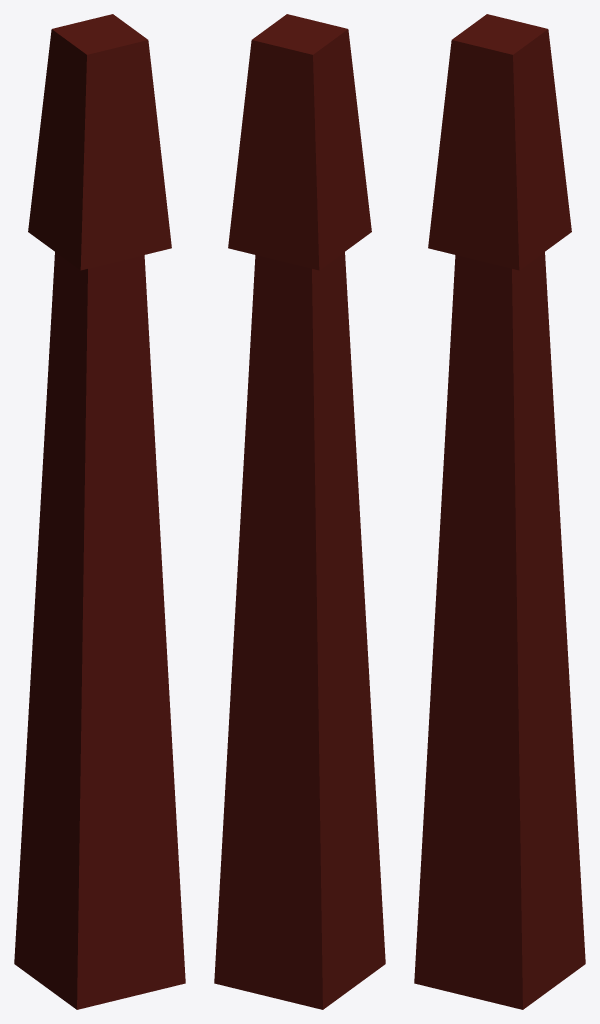
Rendered from column3.fbx.
The picture shows the model from 3 angles, left to right: view 1: azimuth 30°, elevation 25°; view 2: azimuth 150°, elevation 25°; view 3: azimuth 330°, elevation 25°; orthographic projection.
Visible parts, largest first — view 1: column3; view 2: column3; view 3: column3.
Part boxes in pixels (bbox=[...]): column3: bbox=[14, 14, 185, 1009]; column3: bbox=[214, 14, 385, 1009]; column3: bbox=[414, 14, 585, 1009].
Size of the model in its own units: 38.77 by 320 by 38.77.
